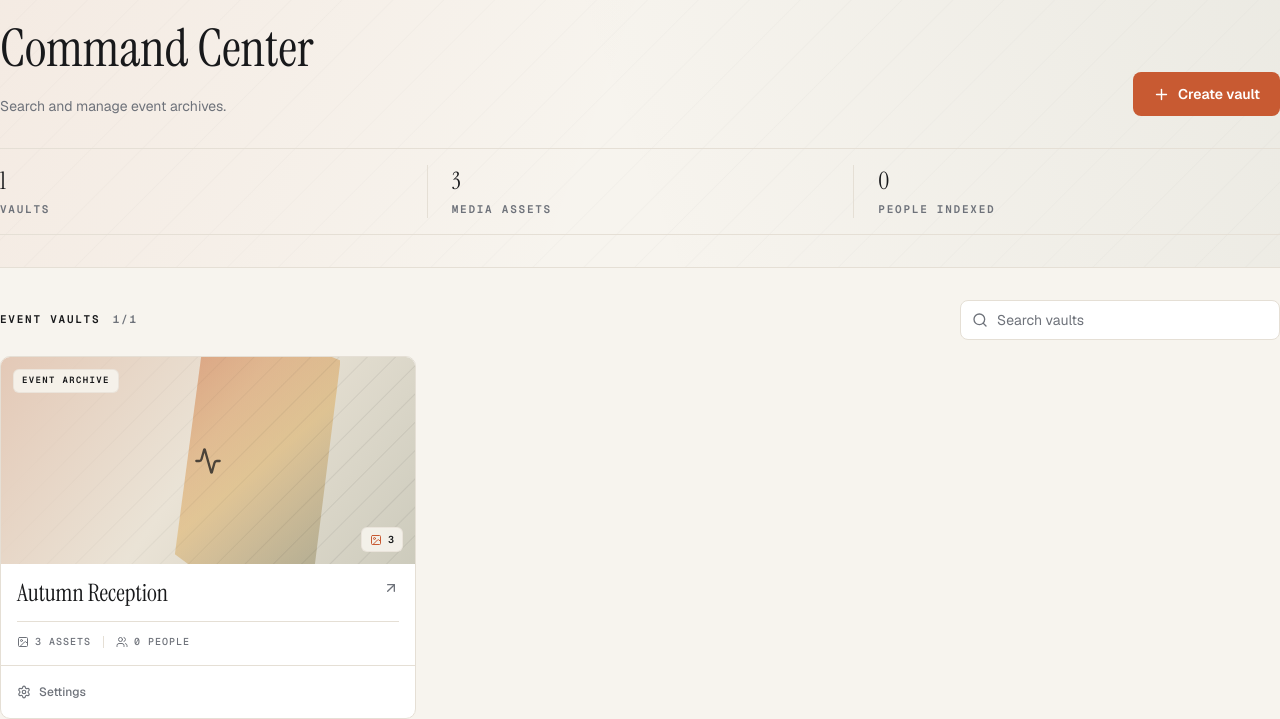
AdminDashboardClient › renders vaults and saves updated settings with a selected theme asset
(page scrolled)
Expected: the heading "Command Center" is shown, [0, 10, 314, 88]
Expected: the heading "Autumn Reception" is shown, [17, 576, 168, 608]
Click the button: click(51, 692) [17, 674, 86, 710]
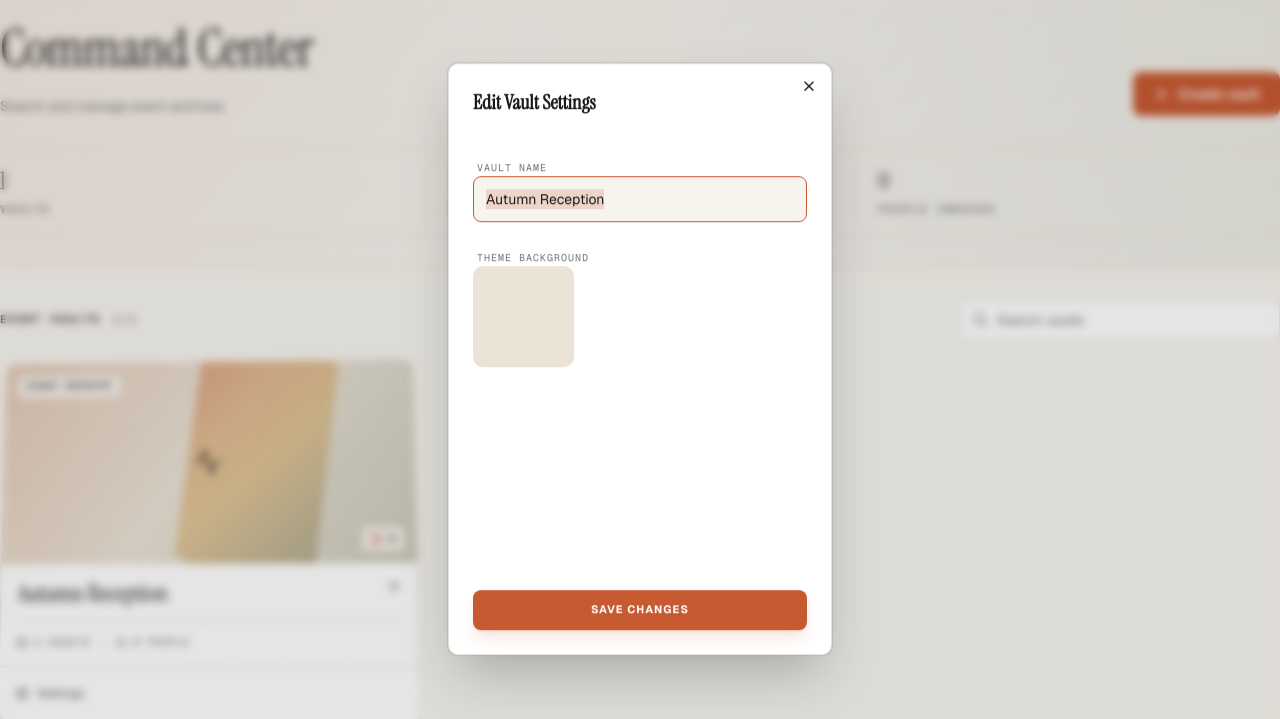
Result: the heading "Edit Vault Settings" is shown at [473, 89, 596, 115]
Replace the text in the field with "Evening Reception": (640, 199) [473, 176, 807, 222]
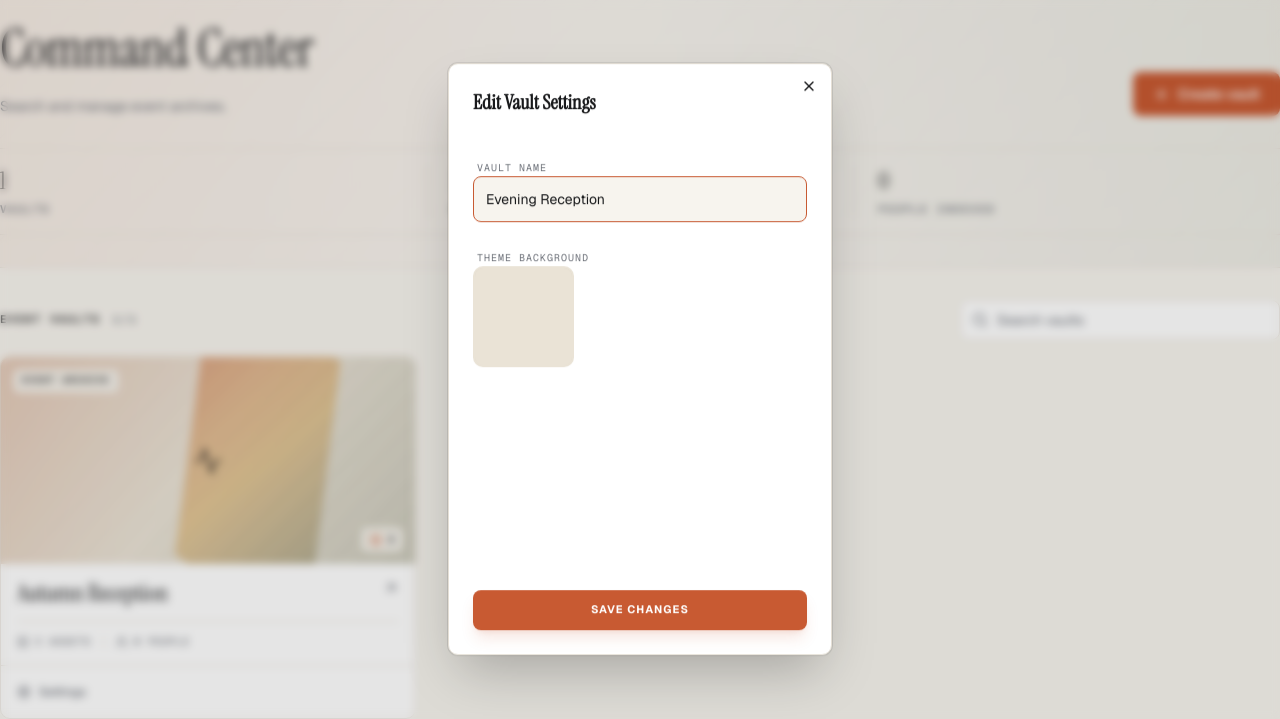
Click the button named "select theme image asset-1": click(523, 316) [473, 266, 574, 367]
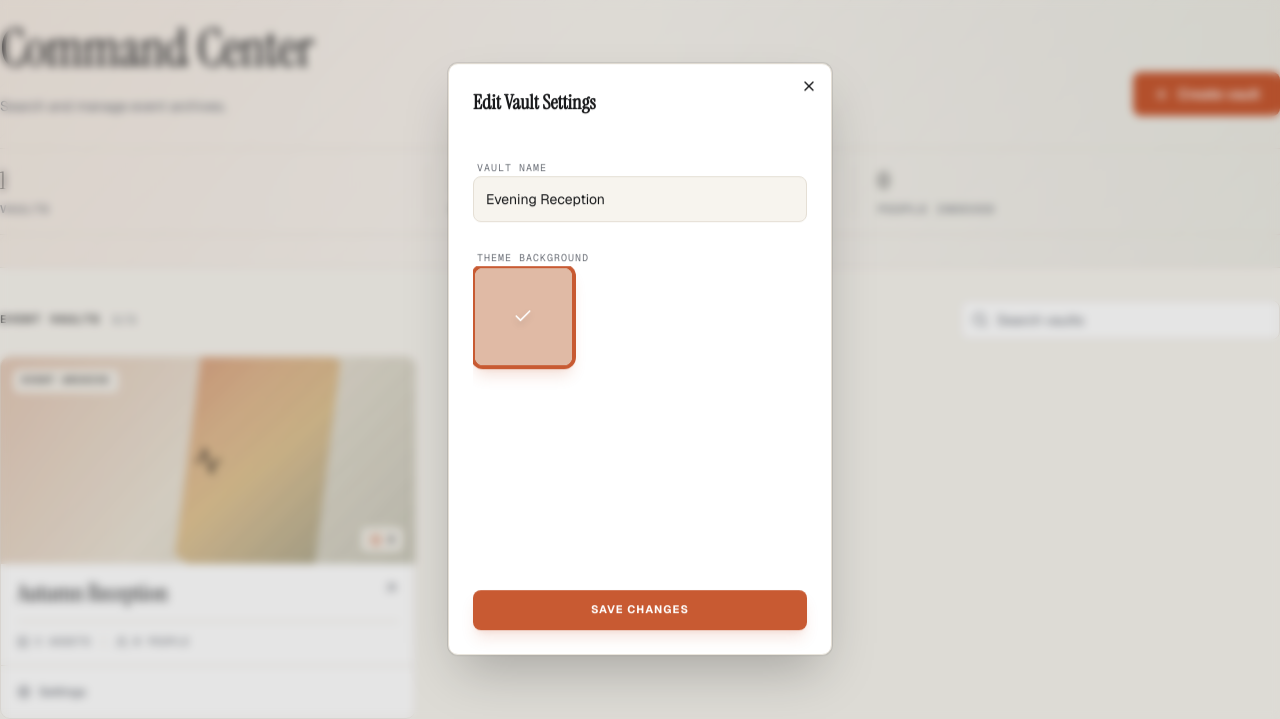
Click the button "Save Changes": click(640, 610) [473, 590, 807, 630]
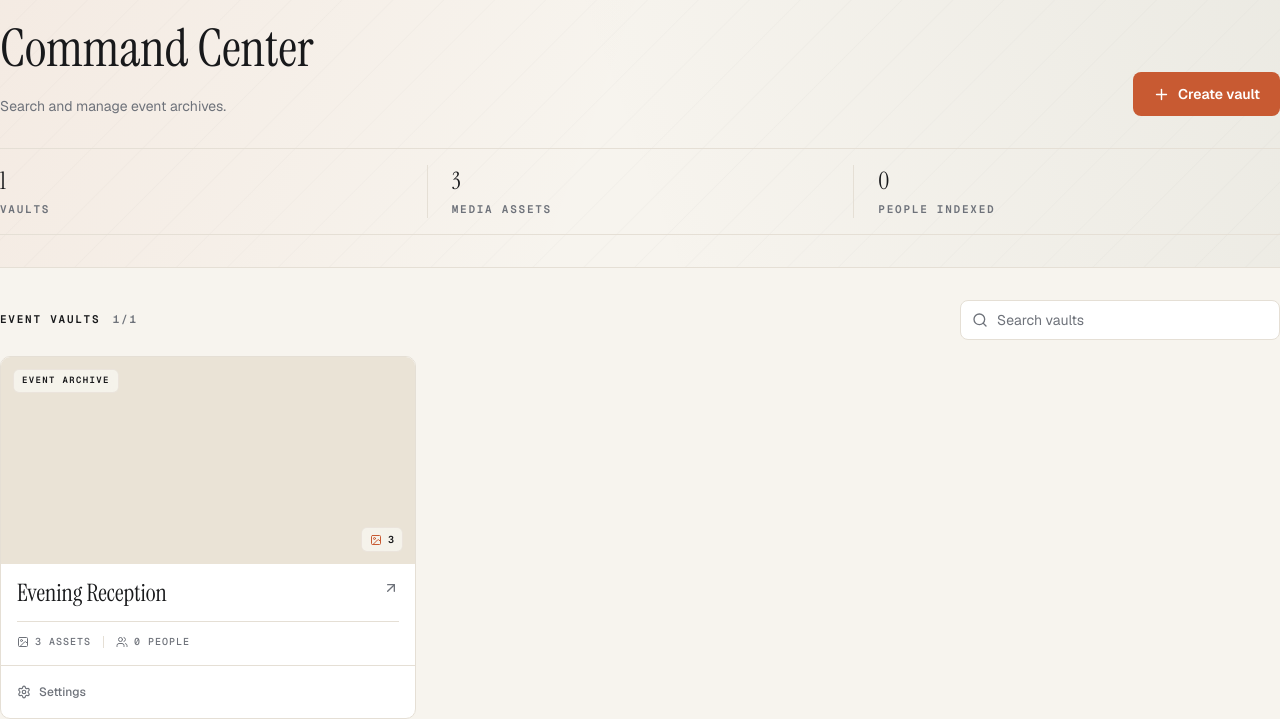
Result: the heading "Evening Reception" is shown at [17, 576, 167, 608]
